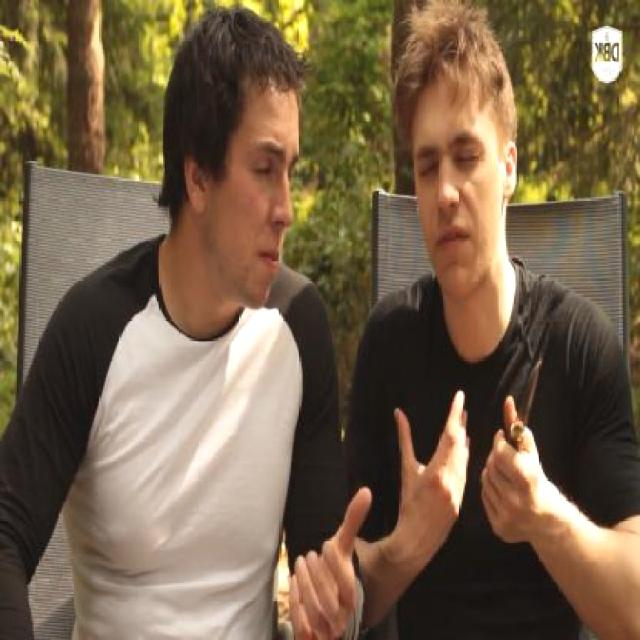knife: (475, 338, 557, 516)
